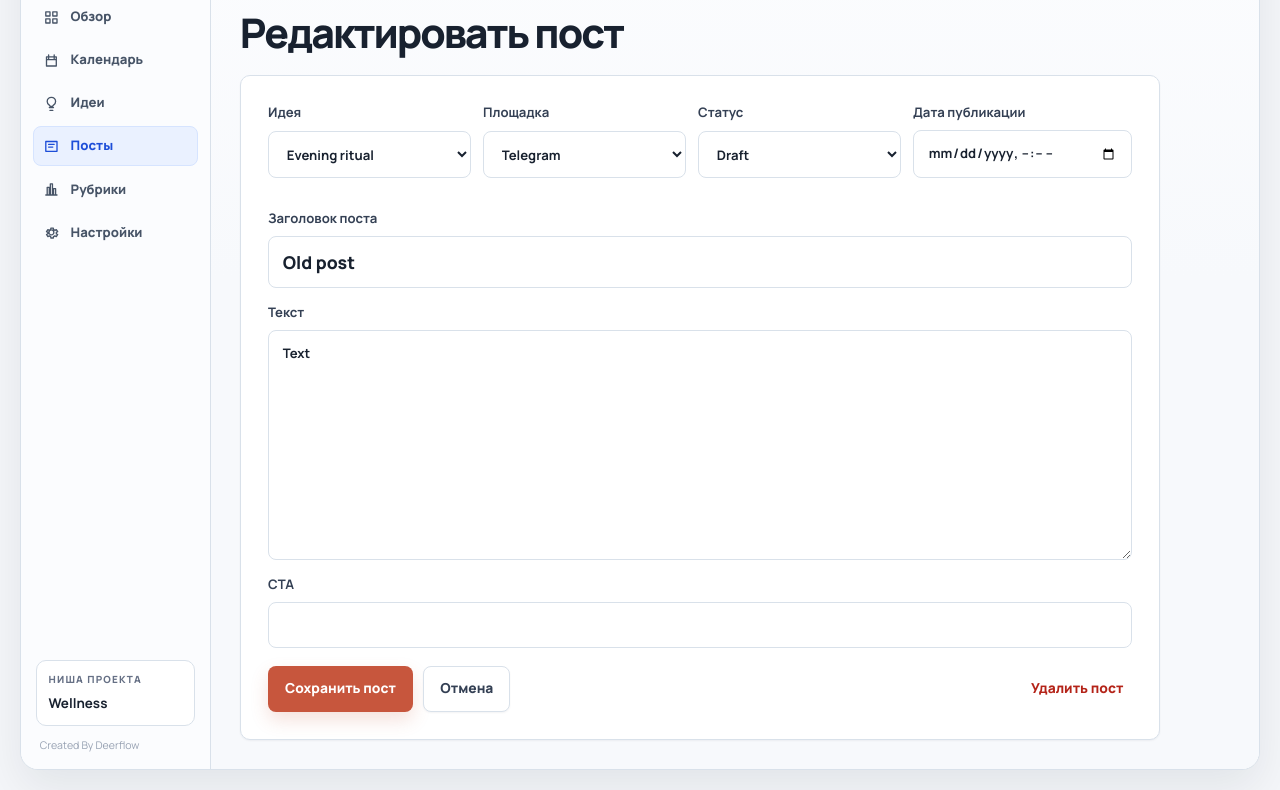
an existing post can be deleted from its editor after confirmation
(page scrolled)
What coordinates should you click on to do the following:
click the button "Удалить пост"
I would click on:
 (1077, 689)
Its box is [1023, 666, 1132, 712].
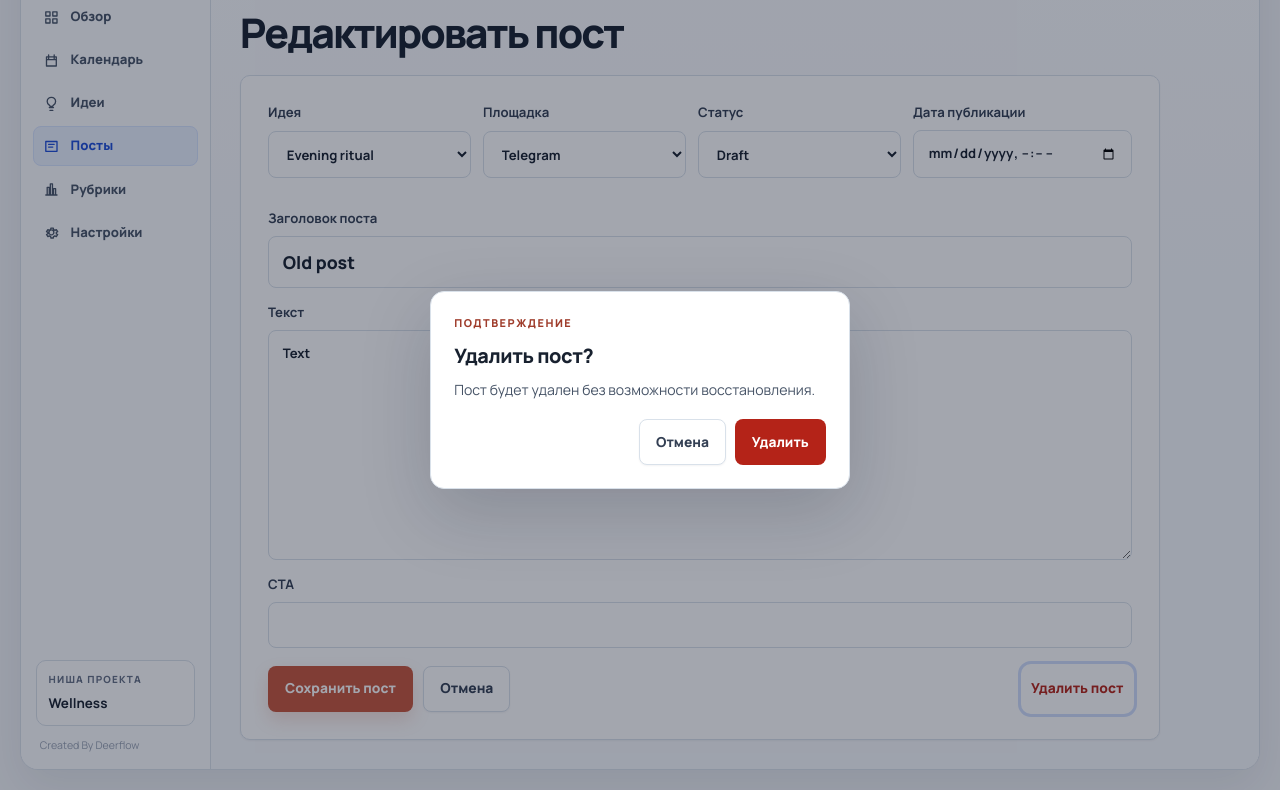
What coordinates should you click on to do the following:
click the button "Удалить"
I would click on:
 (780, 442)
Its box is [735, 419, 826, 465].
(page scrolled)
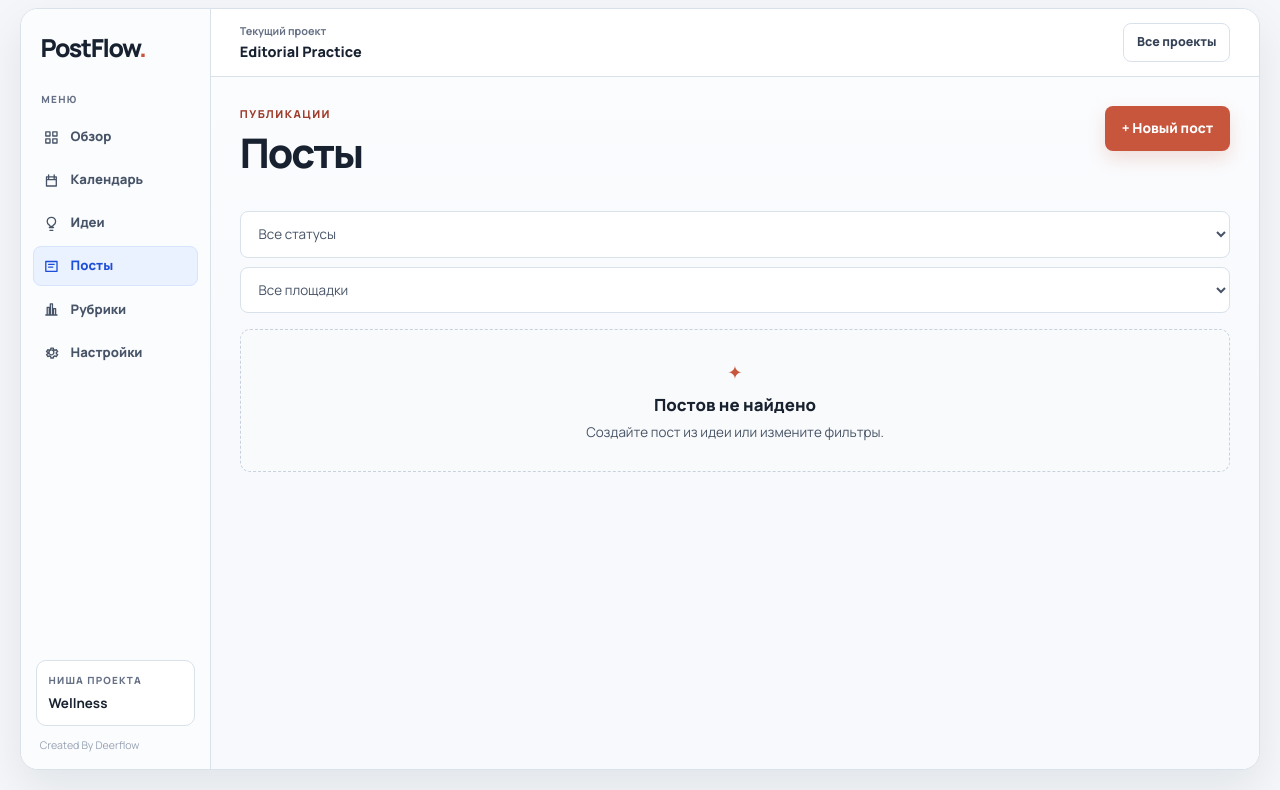
Now the heading "Посты" is shown, box [240, 132, 362, 174]
